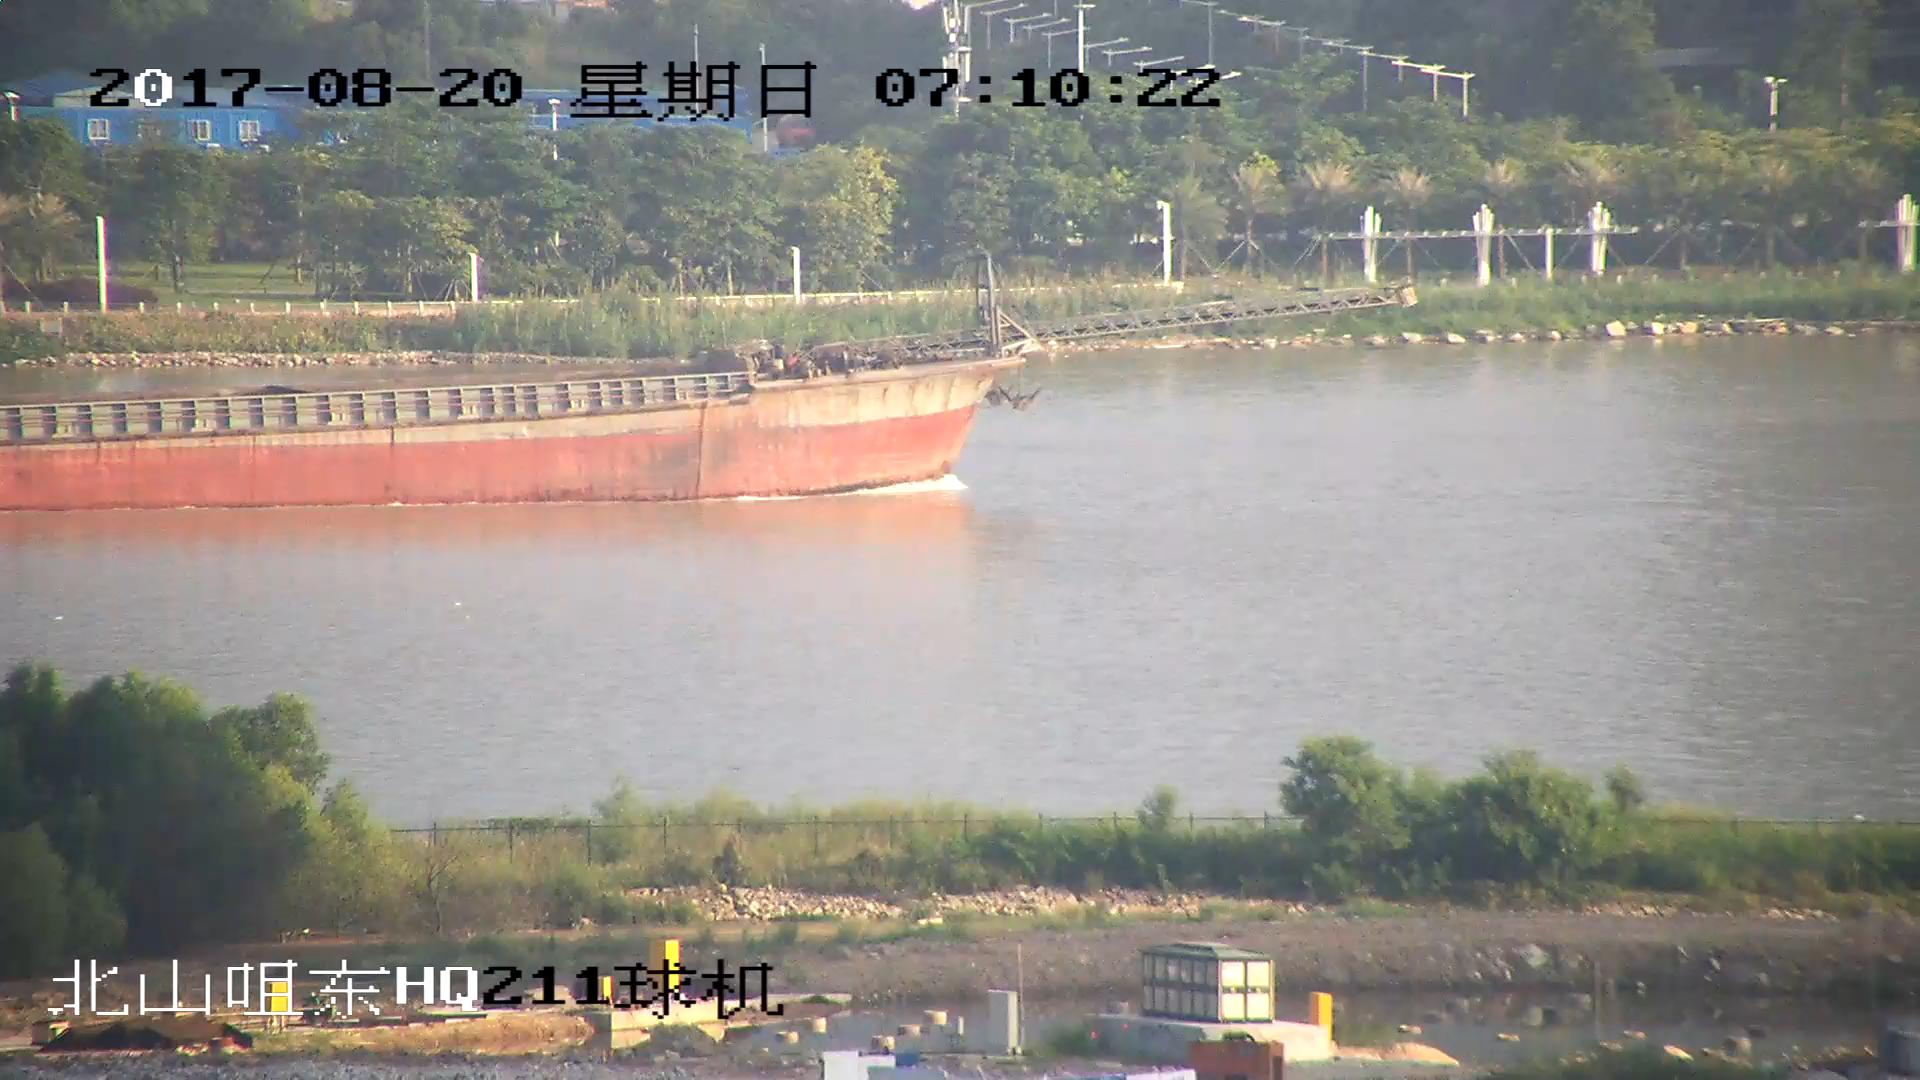bulk cargo carrier: (1, 261, 1402, 509)
